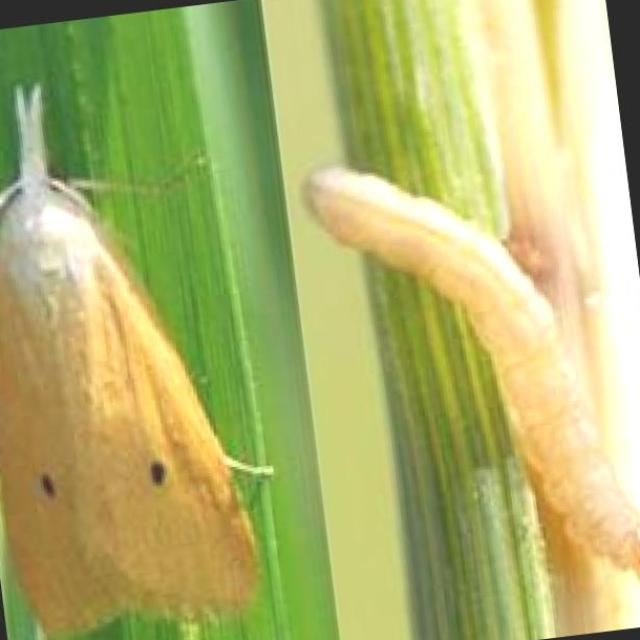stem borer: (0, 86, 273, 634), (307, 169, 640, 580)
